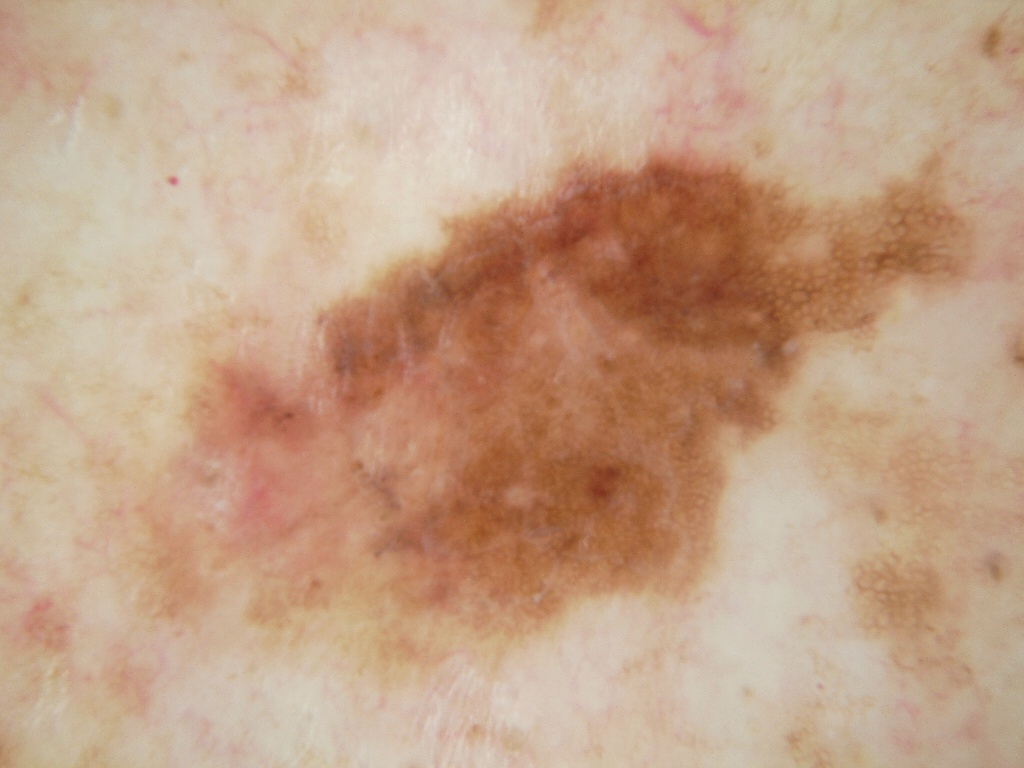Detected Lesion: (123, 150, 969, 644)
